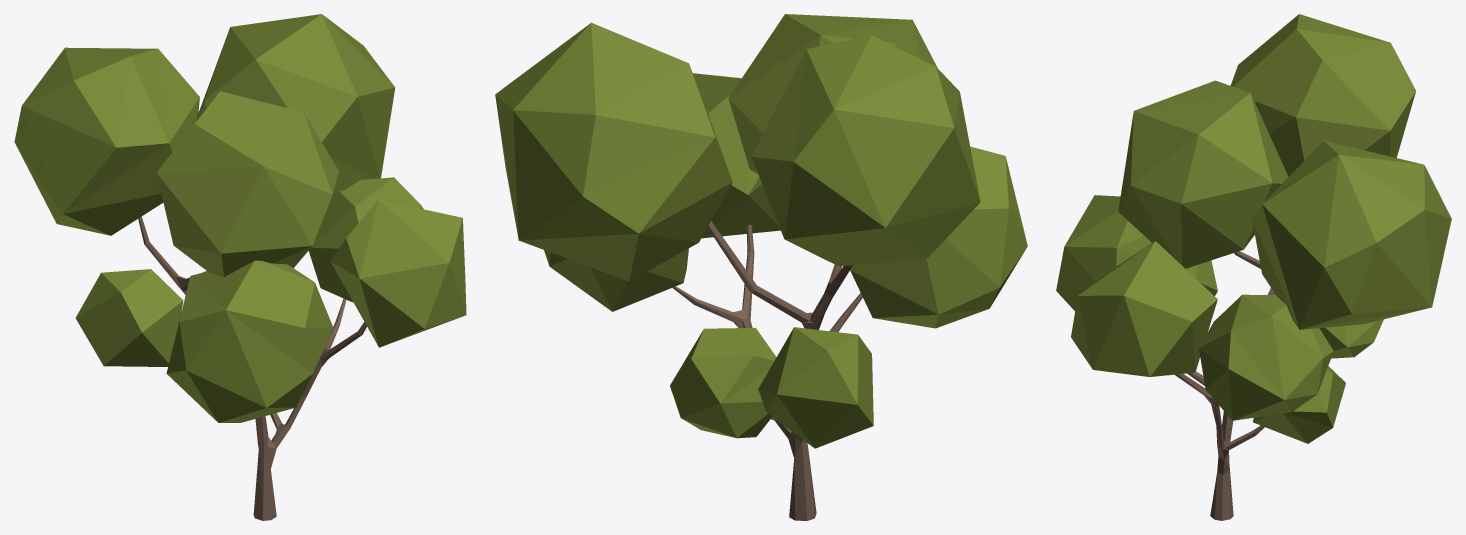
The model's file is oak_2.obj.
The picture shows the model from 3 angles, left to right: view 1: azimuth 30°, elevation 25°; view 2: azimuth 150°, elevation 25°; view 3: azimuth 270°, elevation 25°; orthographic projection. The views are drawn at different scales.
Parts seen in each view (by area): view 1: oak_2_Cube.009; view 2: oak_2_Cube.009; view 3: oak_2_Cube.009.
Boxes of the visible parts, <box> form: oak_2_Cube.009: <box>14,14,466,520</box>; oak_2_Cube.009: <box>495,14,1027,520</box>; oak_2_Cube.009: <box>1056,14,1451,520</box>.
Bounding box in the file's own units: 8.56 × 9.95 × 8.08.
Materials: 1 (1 with a texture image).
